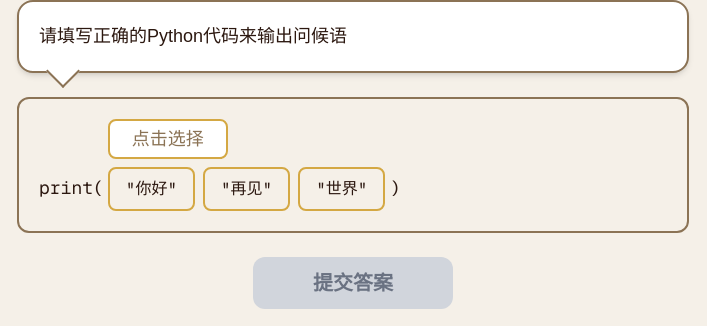
Scenario: FillBlankEditor › submit button is enabled when all blanks are filled
The width and height of the screenshot is (707, 326).
// Click the first choice button to fill the blank
Click the button with test id "choice-0-0": (151, 189) [108,167,195,211]
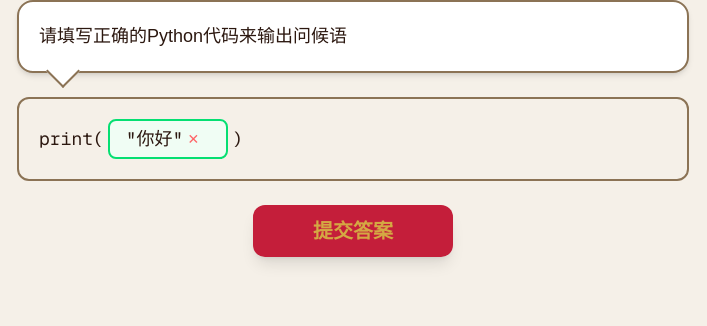
Expected: the button "提交答案" is enabled, [253,205,453,257]
